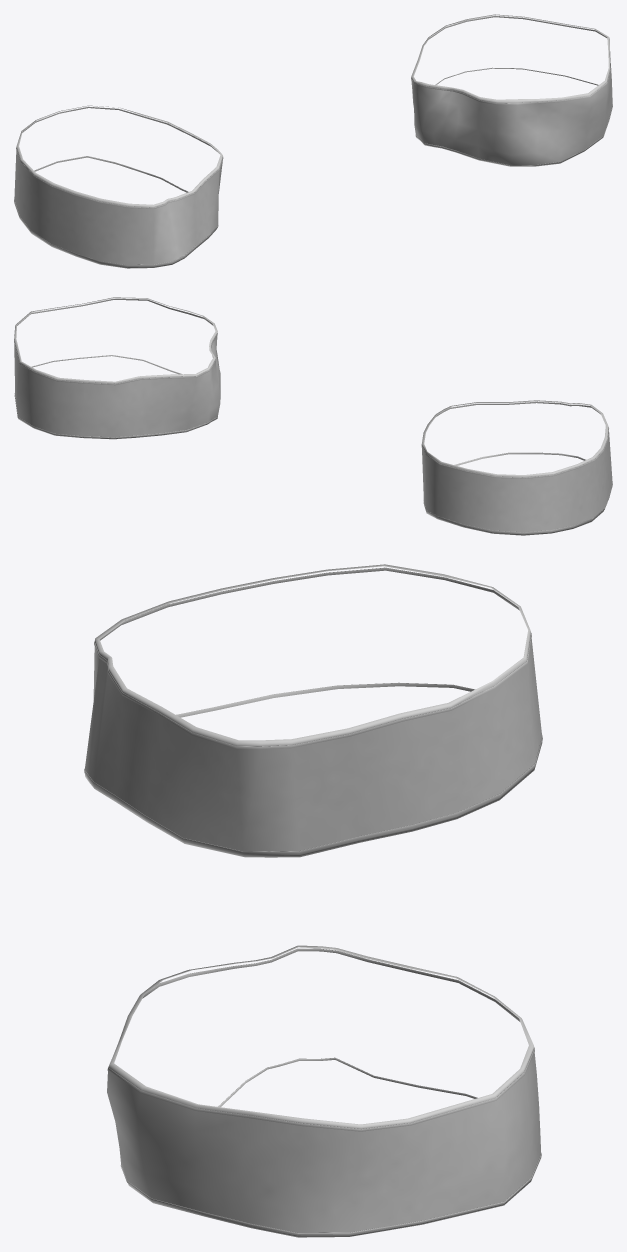
Rendered from Pants_COP_UNDERKnee.glb.
The picture shows the model from 3 angles, top to bottom: view 1: azimuth 30°, elevation 25°; view 2: azimuth 150°, elevation 25°; view 3: azimuth 270°, elevation 25°; orthographic projection. The views are drawn at different scales.
Parts seen in each view (by area): view 1: Pants_COP_UNDERKnee1, Rope1; view 2: Pants_COP_UNDERKnee1, Rope1; view 3: Pants_COP_UNDERKnee1, Rope1.
Part boxes in pixels (x1=…): Pants_COP_UNDERKnee1: x1=14, y1=14, x2=612, y2=268; Rope1: x1=14, y1=15, x2=612, y2=266; Pants_COP_UNDERKnee1: x1=14, y1=297, x2=612, y2=535; Rope1: x1=14, y1=298, x2=612, y2=533; Pants_COP_UNDERKnee1: x1=84, y1=564, x2=542, y2=1237; Rope1: x1=84, y1=567, x2=542, y2=1235.
Bounding box in the file's own units: 0.8127 × 0.1032 × 0.2827.
Materials: 2 (2 with a texture image).
